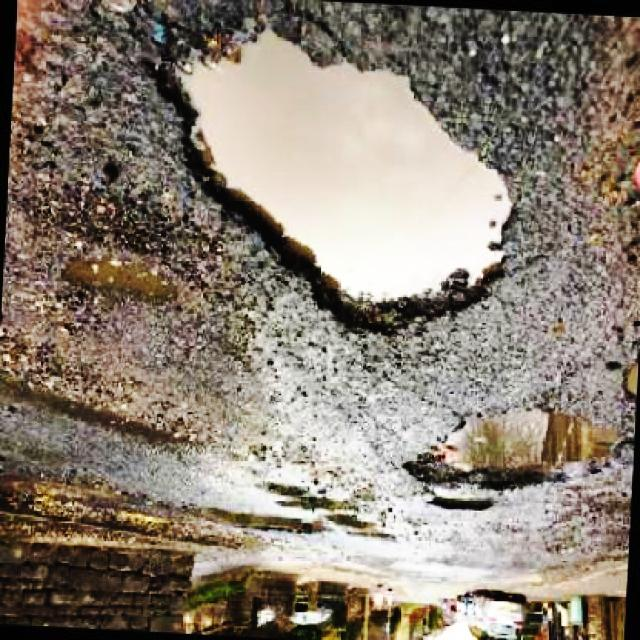pothole: (154, 8, 518, 342), (409, 402, 640, 511), (3, 336, 199, 456), (49, 238, 180, 311), (262, 482, 398, 550)
